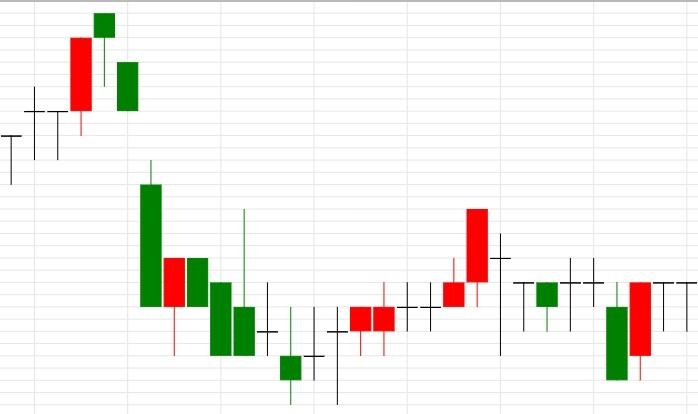hanging_man_fall: (0, 12, 116, 184)
inverse_hammer_rise: (93, 12, 256, 356)
